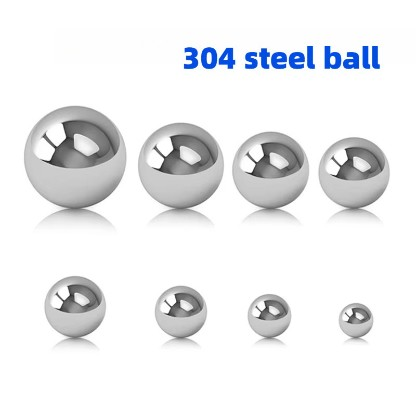ironball: (22, 104, 126, 208), (137, 121, 224, 209), (231, 130, 309, 208), (317, 136, 390, 208), (43, 275, 106, 337), (153, 284, 206, 338), (247, 293, 291, 337), (338, 302, 373, 338)
